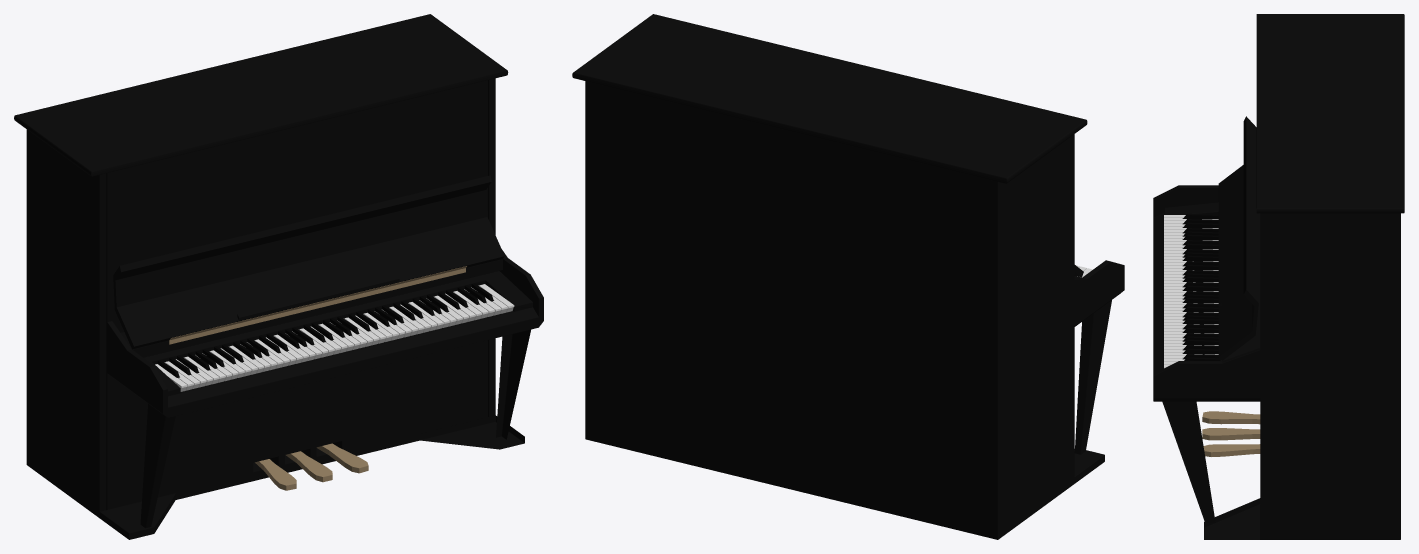
File: piano.dae
The picture shows the model from 3 angles, left to right: view 1: azimuth 30°, elevation 25°; view 2: azimuth 150°, elevation 25°; view 3: azimuth 270°, elevation 25°; orthographic projection. The views are drawn at different scales.
Visible parts, largest first — view 1: Cube; view 2: Cube; view 3: Cube.
Part boxes in pixels (x1,y1,x2,y2): Cube: (14, 14, 543, 539); Cube: (572, 14, 1124, 539); Cube: (1153, 14, 1404, 539).
Bounding box in the file's own units: 8.21 × 4.47 × 6.6.
